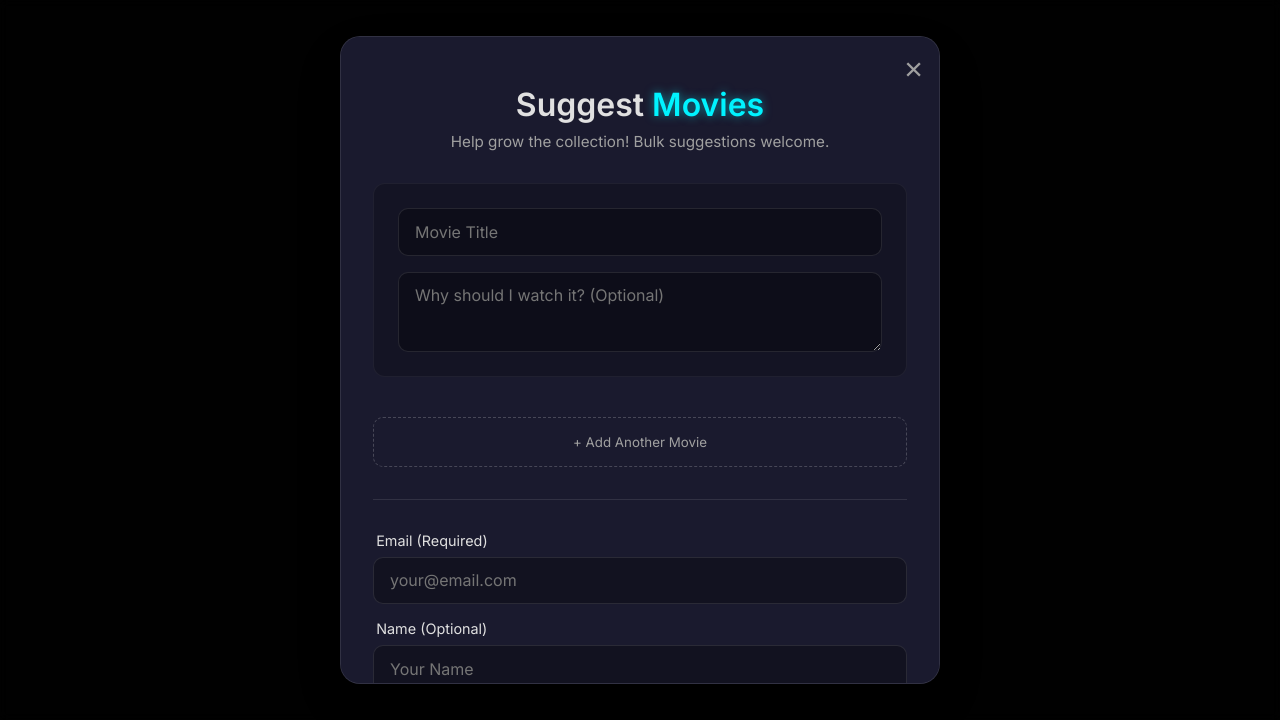
Test: SuggestionForm Component › validates required email format
Note: Invalid email
Type "invalid-email" into the field with placeholder "your@email.com" at (640, 580), box 373,557 -> 907,604
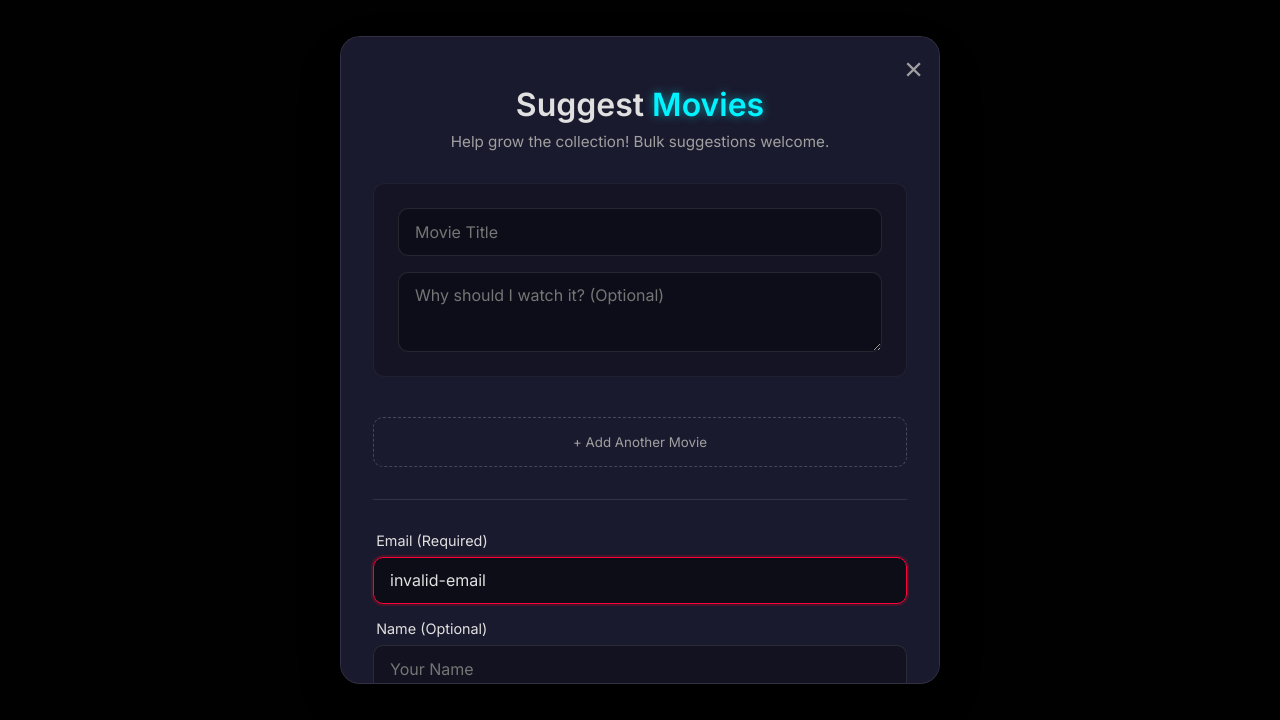
Leave the field with placeholder "your@email.com", box 373,557 -> 907,604
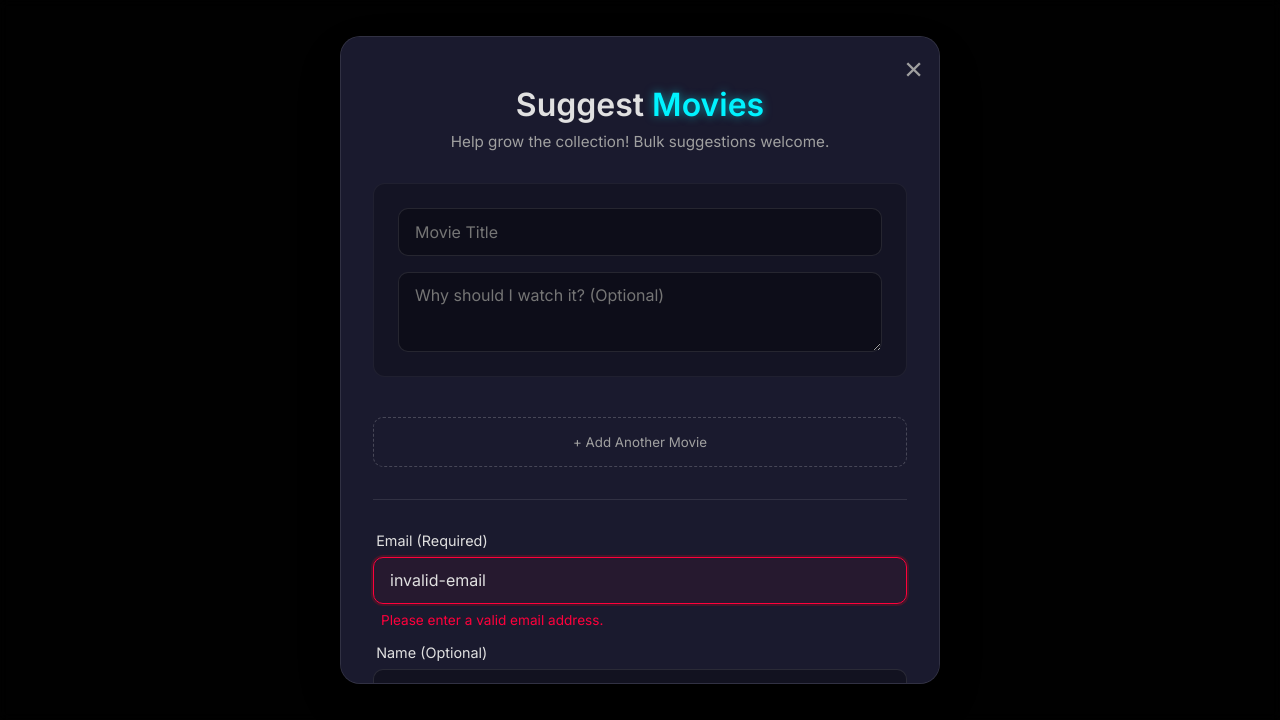
Check: the text "Please enter a valid email address." is shown, box 381,612 -> 603,628
